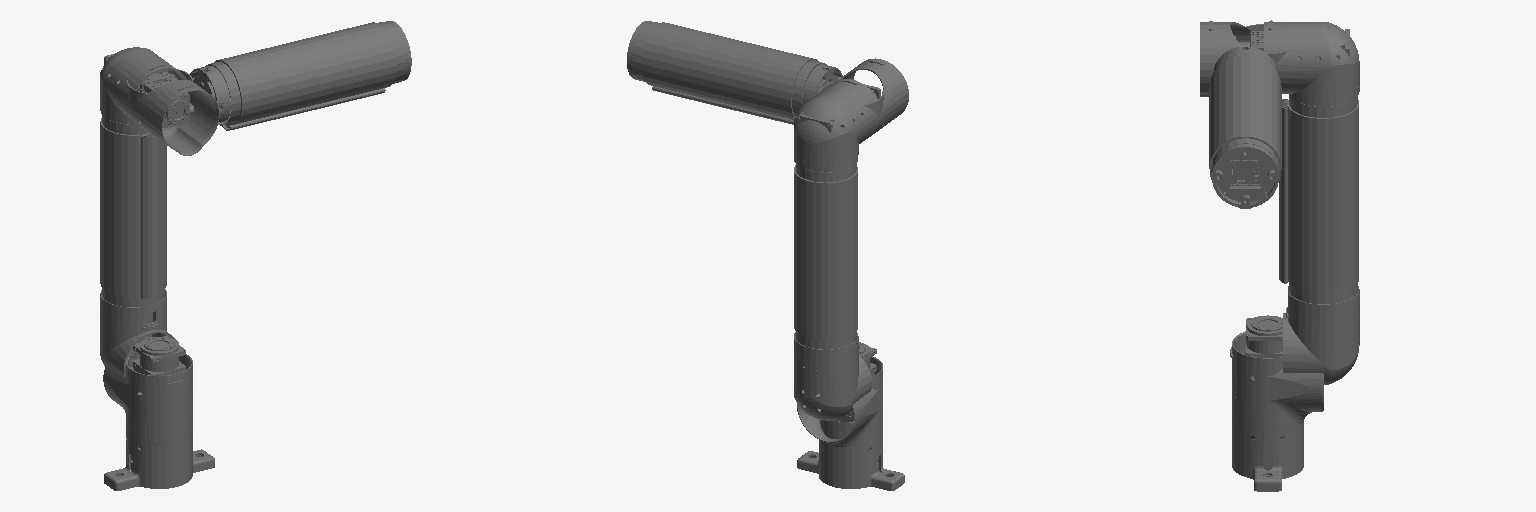
robot.urdf — protac:
<?xml version="1.0" ?>
<!-- =================================================================================== -->
<!-- |    This document was autogenerated by xacro from protac_gazebo.urdf.xacro       | -->
<!-- |    EDITING THIS FILE BY HAND IS NOT RECOMMENDED                                 | -->
<!-- =================================================================================== -->
<robot name="protac">
  <material name="black">
    <color rgba="0.0 0.0 0.0 1.0"/>
  </material>
  <material name="white">
    <color rgba="1.0 1.0 1.0 1.0"/>
  </material>
  <material name="red">
    <color rgba="0.8 0.0 0.0 1.0"/>
  </material>
  <material name="blue">
    <color rgba="0.0 0.0 0.8 1.0"/>
  </material>
  <material name="green">
    <color rgba="0.0 0.8 0.0 1.0"/>
  </material>
  <material name="grey">
    <color rgba="0.5 0.5 0.5 1.0"/>
  </material>
  <link name="world"/>
  <link name="base_link">
    <inertial>
      <origin rpy="0 0 0" xyz="-4.0682e-11 5.8587e-06 0.05729"/>
      <mass value="0.36412"/>
      <inertia ixx="9.4e-05" ixy="-0.0" ixz="0.0" iyy="5.5e-05" iyz="0.0" izz="8.2e-05"/>
    </inertial>
    <visual>
      <origin rpy="0 0 0" xyz="0 0 0"/>
      <geometry>
        <mesh filename="package://protac_description/meshes/base_link.STL"/>
      </geometry>
      <material name="grey"/>
    </visual>
    <collision>
      <origin rpy="0 0 0" xyz="0 0 0"/>
      <geometry>
        <mesh filename="package://protac_description/meshes/base_link.STL"/>
      </geometry>
    </collision>
  </link>
  <link name="link_1">
    <inertial>
      <origin rpy="0 0 0" xyz="-4.2889e-11 0.0036799 0.032082"/>
      <mass value="0.34495"/>
      <inertia ixx="3e-06" ixy="-0.0" ixz="-0.0" iyy="1e-06" iyz="0.0" izz="4e-06"/>
    </inertial>
    <visual>
      <origin rpy="0 0 0" xyz="0 0 0"/>
      <geometry>
        <mesh filename="package://protac_description/meshes/link1.STL"/>
      </geometry>
      <material name="grey"/>
    </visual>
    <collision>
      <origin rpy="0 0 0" xyz="0 0 0"/>
      <geometry>
        <mesh filename="package://protac_description/meshes/link1.STL"/>
      </geometry>
    </collision>
  </link>
  <link name="link_2">
    <inertial>
      <origin rpy="0 0 0" xyz="4.0646e-05 -0.28131 -0.0044042"/>
      <mass value="0.80672"/>
      <inertia ixx="9.4e-05" ixy="0.0" ixz="-0.0" iyy="8.2e-05" iyz="0.0" izz="5.5e-05"/>
    </inertial>
    <visual>
      <origin rpy="0 0 0" xyz="0 0 0"/>
      <geometry>
        <mesh filename="package://protac_description/meshes/link2.STL"/>
      </geometry>
      <material name="grey"/>
    </visual>
    <collision>
      <origin rpy="0 0 0" xyz="0 0 0"/>
      <geometry>
        <mesh filename="package://protac_description/meshes/link2.STL"/>
      </geometry>
    </collision>
  </link>
  <link name="link_3">
    <inertial>
      <origin rpy="0 0 0" xyz="0.01294 3.5796e-05 0.025586"/>
      <mass value="0.11389"/>
      <inertia ixx="3.2e-05" ixy="-0.0" ixz="0.0" iyy="2e-05" iyz="-0.0" izz="1.9e-05"/>
    </inertial>
    <visual>
      <origin rpy="0 0 0" xyz="0 0 0"/>
      <geometry>
        <mesh filename="package://protac_description/meshes/link3.STL"/>
      </geometry>
      <material name="grey"/>
    </visual>
    <collision>
      <origin rpy="0 0 0" xyz="0 0 0"/>
      <geometry>
        <mesh filename="package://protac_description/meshes/link3.STL"/>
      </geometry>
    </collision>
  </link>
  <link name="link_4">
    <inertial>
      <origin rpy="0 0 0" xyz="0.0052747 0.00023019 0.17217"/>
      <mass value="0.45303"/>
      <inertia ixx="3.2e-05" ixy="-0.0" ixz="0.0" iyy="2e-05" iyz="-0.0" izz="1.9e-05"/>
    </inertial>
    <visual>
      <origin rpy="0 0 0" xyz="0 0 0"/>
      <geometry>
        <mesh filename="package://protac_description/meshes/link4.STL"/>
      </geometry>
      <material name="grey"/>
    </visual>
    <collision>
      <origin rpy="0 0 0" xyz="0 0 0"/>
      <geometry>
        <mesh filename="package://protac_description/meshes/link4.STL"/>
      </geometry>
    </collision>
  </link>
  <joint name="origin_to_base_link" type="fixed">
    <origin rpy="0 0 0" xyz="0 0 0"/>
    <parent link="world"/>
    <child link="base_link"/>
  </joint>
  <joint name="joint1" type="revolute">
    <origin rpy="0 0 0" xyz="0.0 0.0 0.126"/>
    <parent link="base_link"/>
    <child link="link_1"/>
    <axis xyz="0.0 0.0 1.0"/>
    <limit effort="10" lower="-2.0943951023931953" upper="2.0943951023931953" velocity="2.9321531433504737"/>
    <dynamics damping="0.0" friction="0.0"/>
  </joint>
  <joint name="joint2" type="revolute">
    <origin rpy="-1.5708 0 0" xyz="0.0 0.06897 0.03297"/>
    <parent link="link_1"/>
    <child link="link_2"/>
    <axis xyz="0.0 0.0 1.0"/>
    <limit effort="44" lower="-1.0471975511965976" upper="1.0471975511965976" velocity="2.9321531433504737"/>
    <dynamics damping="0.0" friction="0.0"/>
  </joint>
  <joint name="joint3" type="revolute">
    <origin rpy="3.1416 0 0" xyz="-0.0 -0.39899 -0.07"/>
    <parent link="link_2"/>
    <child link="link_3"/>
    <axis xyz="0.0 0.0 1.0"/>
    <limit effort="25" lower="-2.0943951023931953" upper="2.0943951023931953" velocity="2.9321531433504737"/>
    <dynamics damping="0.0" friction="0.0"/>
  </joint>
  <joint name="joint4" type="revolute">
    <origin rpy="-1.5708 0 -1.5708" xyz="0.051 0.0 0.026963"/>
    <parent link="link_3"/>
    <child link="link_4"/>
    <axis xyz="0.0 0.0 1.0"/>
    <limit effort="5" lower="-2.0943951023931953" upper="2.0943951023931953" velocity="2.9321531433504737"/>
    <dynamics damping="0.0" friction="0.0"/>
  </joint>
  <ros2_control name="protac_ros2_control" type="system">
    <hardware>
      <plugin>gazebo_ros2_control/GazeboSystem</plugin>
    </hardware>
    <joint name="joint1">
      <command_interface name="position">
        <param name="min">-2.0943951023931953</param>
        <param name="max">2.0943951023931953</param>
      </command_interface>
      <command_interface name="velocity">
        <param name="min">-2.9321531433504737</param>
        <param name="max">2.9321531433504737</param>
      </command_interface>
      <state_interface name="position">
        <param name="initial_value">0.0</param>
      </state_interface>
      <state_interface name="velocity"/>
      <state_interface name="effort"/>
    </joint>
    <joint name="joint2">
      <command_interface name="position">
        <param name="min">-1.0471975511965976</param>
        <param name="max">1.0471975511965976</param>
      </command_interface>
      <command_interface name="velocity">
        <param name="min">-2.9321531433504737</param>
        <param name="max">2.9321531433504737</param>
      </command_interface>
      <state_interface name="position">
        <param name="initial_value">0.0</param>
      </state_interface>
      <state_interface name="velocity"/>
      <state_interface name="effort"/>
    </joint>
    <joint name="joint3">
      <command_interface name="position">
        <param name="min">-2.0943951023931953</param>
        <param name="max">2.0943951023931953</param>
      </command_interface>
      <command_interface name="velocity">
        <param name="min">-2.9321531433504737</param>
        <param name="max">2.9321531433504737</param>
      </command_interface>
      <state_interface name="position">
        <param name="initial_value">0.0</param>
      </state_interface>
      <state_interface name="velocity"/>
      <state_interface name="effort"/>
    </joint>
    <joint name="joint4">
      <command_interface name="position">
        <param name="min">-2.0943951023931953</param>
        <param name="max">2.0943951023931953</param>
      </command_interface>
      <command_interface name="velocity">
        <param name="min">-2.9321531433504737</param>
        <param name="max">2.9321531433504737</param>
      </command_interface>
      <state_interface name="position">
        <param name="initial_value">0.0</param>
      </state_interface>
      <state_interface name="velocity"/>
      <state_interface name="effort"/>
    </joint>
  </ros2_control>
  <gazebo>
    <plugin filename="libgazebo_ros2_control.so" name="gazebo_ros2_control">
      <parameters>[local-path]/ros/protac_ws/install/protac_description/share/protac_description/controllers/controllers.yaml</parameters>
    </plugin>
  </gazebo>
</robot>

--- Facts derived from the render (not from the file) ---
The picture shows the robot from 3 angles, left to right: view 1: azimuth 30°, elevation 25°; view 2: azimuth 150°, elevation 25°; view 3: azimuth 270°, elevation 25°; orthographic projection.
Model protac with 6 links and 5 joints (4 revolute, 1 fixed), rooted at world, posed every joint at zero.
Visible links, largest first — view 1: link_2, link_4, link_1, link_3, base_link; view 2: link_2, link_4, base_link, link_1, link_3; view 3: link_2, link_4, link_1, base_link, link_3.
Link boxes in pixels (<box>): link_2: <box>100,47,188,376</box>; link_4: <box>190,21,411,130</box>; link_1: <box>103,336,192,448</box>; link_3: <box>126,69,219,155</box>; base_link: <box>104,411,214,490</box>; link_2: <box>794,79,880,420</box>; link_4: <box>627,21,842,124</box>; base_link: <box>797,420,904,490</box>; link_1: <box>797,342,882,450</box>; link_3: <box>819,58,908,138</box>; link_2: <box>1263,20,1359,384</box>; link_4: <box>1209,47,1281,208</box>; link_1: <box>1230,315,1323,438</box>; base_link: <box>1232,397,1303,491</box>; link_3: <box>1200,21,1287,96</box>.
Bounding box of the posed robot: 0.4285 × 0.198 × 0.6059 m (x, y, z).
5 mesh visuals loaded from 5 distinct referenced files (5 binary STL).